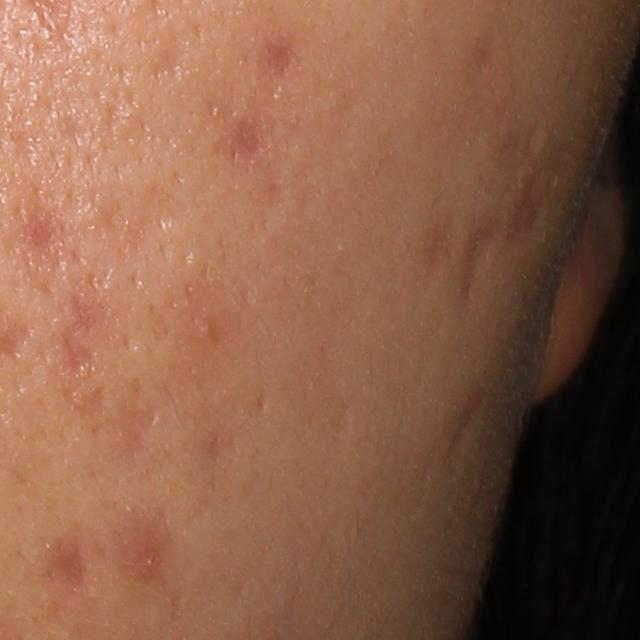atrophic_scar: (459, 211, 503, 308), (443, 382, 491, 458), (23, 203, 72, 268), (509, 148, 544, 238), (226, 109, 272, 165), (64, 334, 93, 380), (255, 391, 270, 412)
